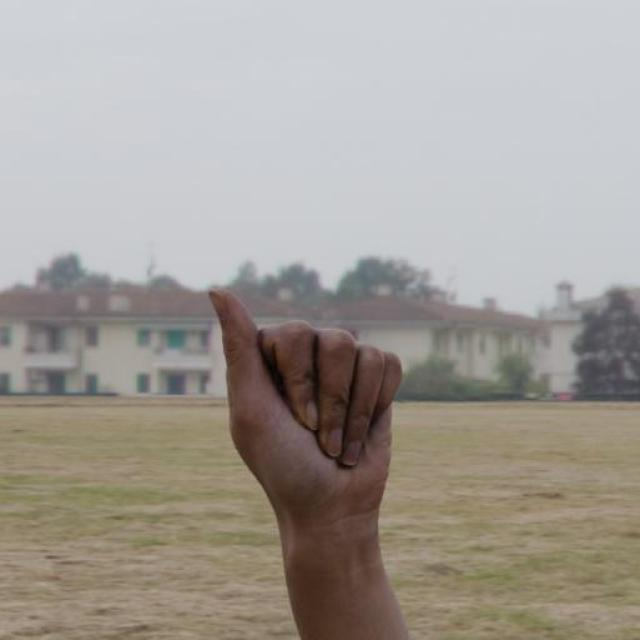A: (202, 279, 414, 546)
